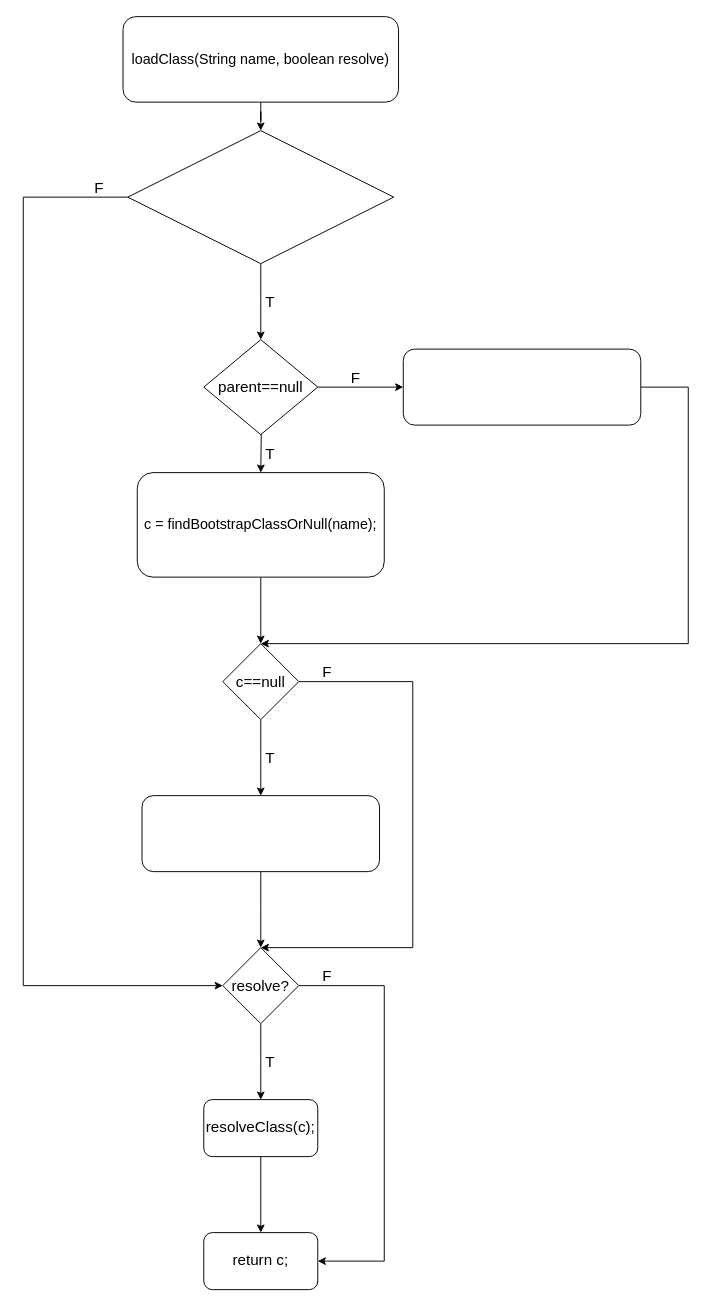
The diagram is 713 pixels wide and 1306 high, and some of its shapes have lost their labels. The centre of each missing label's shape, as x and y in pixels:
"c = findClass(name) ;" belongs at pixel 260 833.
"c = parent .loadClass(name , false ) ;" belongs at pixel 521 386.
"c=findLoadedClass(name)==null" belongs at pixel 260 197.
